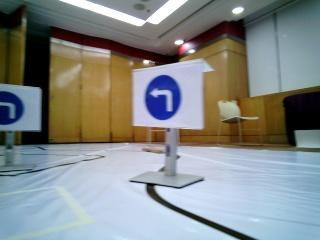left: (127, 71, 193, 129)
